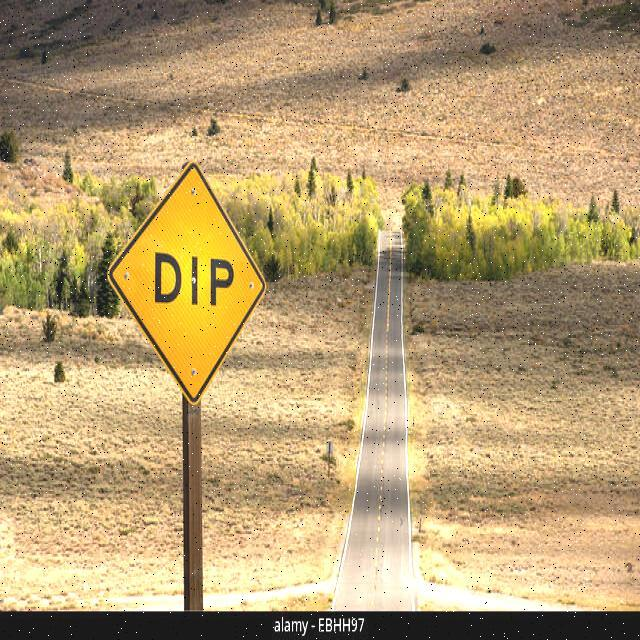Traffic sign: (103, 157, 270, 408)
